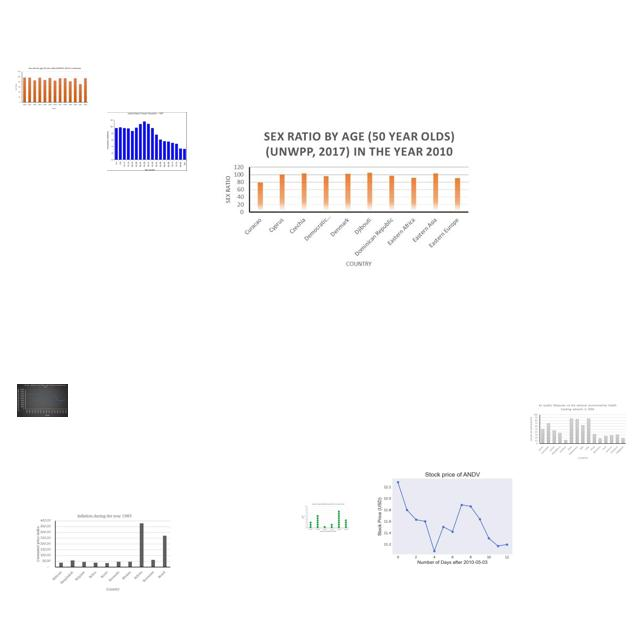Graph: (218, 125, 474, 270), (373, 458, 528, 574), (36, 512, 172, 592), (528, 402, 628, 462), (107, 112, 187, 171), (13, 65, 92, 111), (17, 384, 68, 417), (300, 502, 350, 533)
